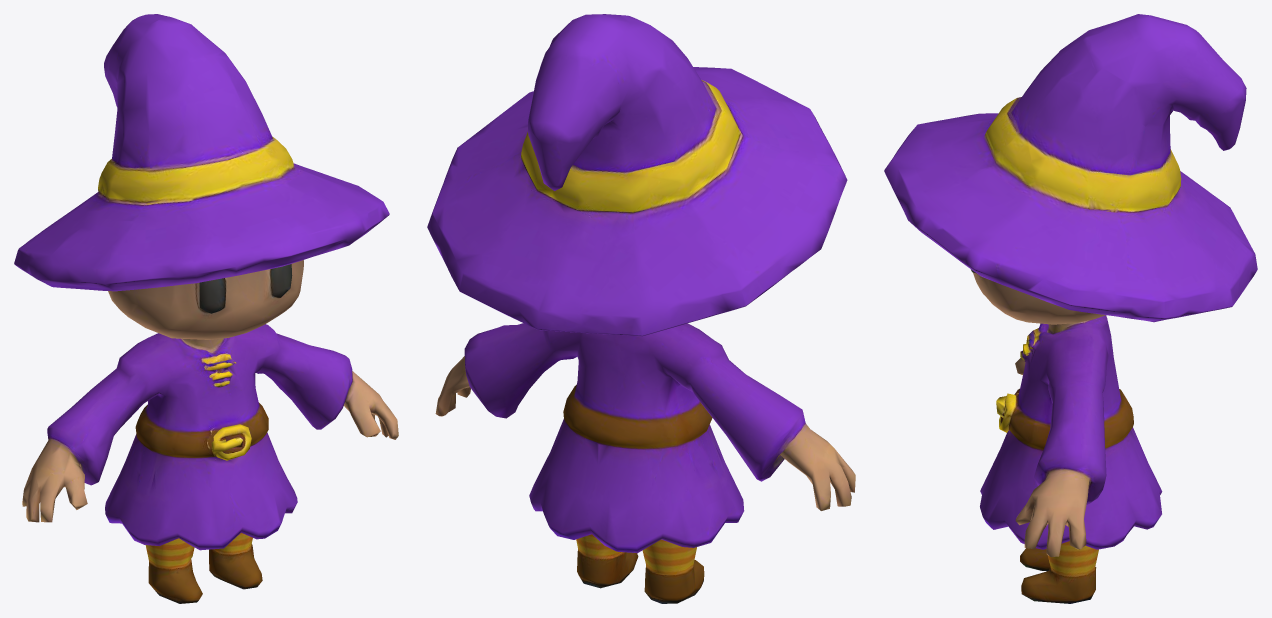
Rendered from mago.glb.
3 views of the same model, side by side, from view 1: azimuth 30°, elevation 25°; view 2: azimuth 150°, elevation 25°; view 3: azimuth 270°, elevation 25° (orthographic). The views are drawn at different scales.
Parts seen in each view (by area): view 1: tripo_node_0b013678-a494-4745-bbde-7075c6a65e93; view 2: tripo_node_0b013678-a494-4745-bbde-7075c6a65e93; view 3: tripo_node_0b013678-a494-4745-bbde-7075c6a65e93.
Part boxes in pixels (bbox=[...]): tripo_node_0b013678-a494-4745-bbde-7075c6a65e93: bbox=[14, 14, 398, 603]; tripo_node_0b013678-a494-4745-bbde-7075c6a65e93: bbox=[427, 14, 855, 603]; tripo_node_0b013678-a494-4745-bbde-7075c6a65e93: bbox=[884, 14, 1257, 603].
Size of the model in its own units: 0.7129 by 1 by 0.603.
1 material, 1 textured.
